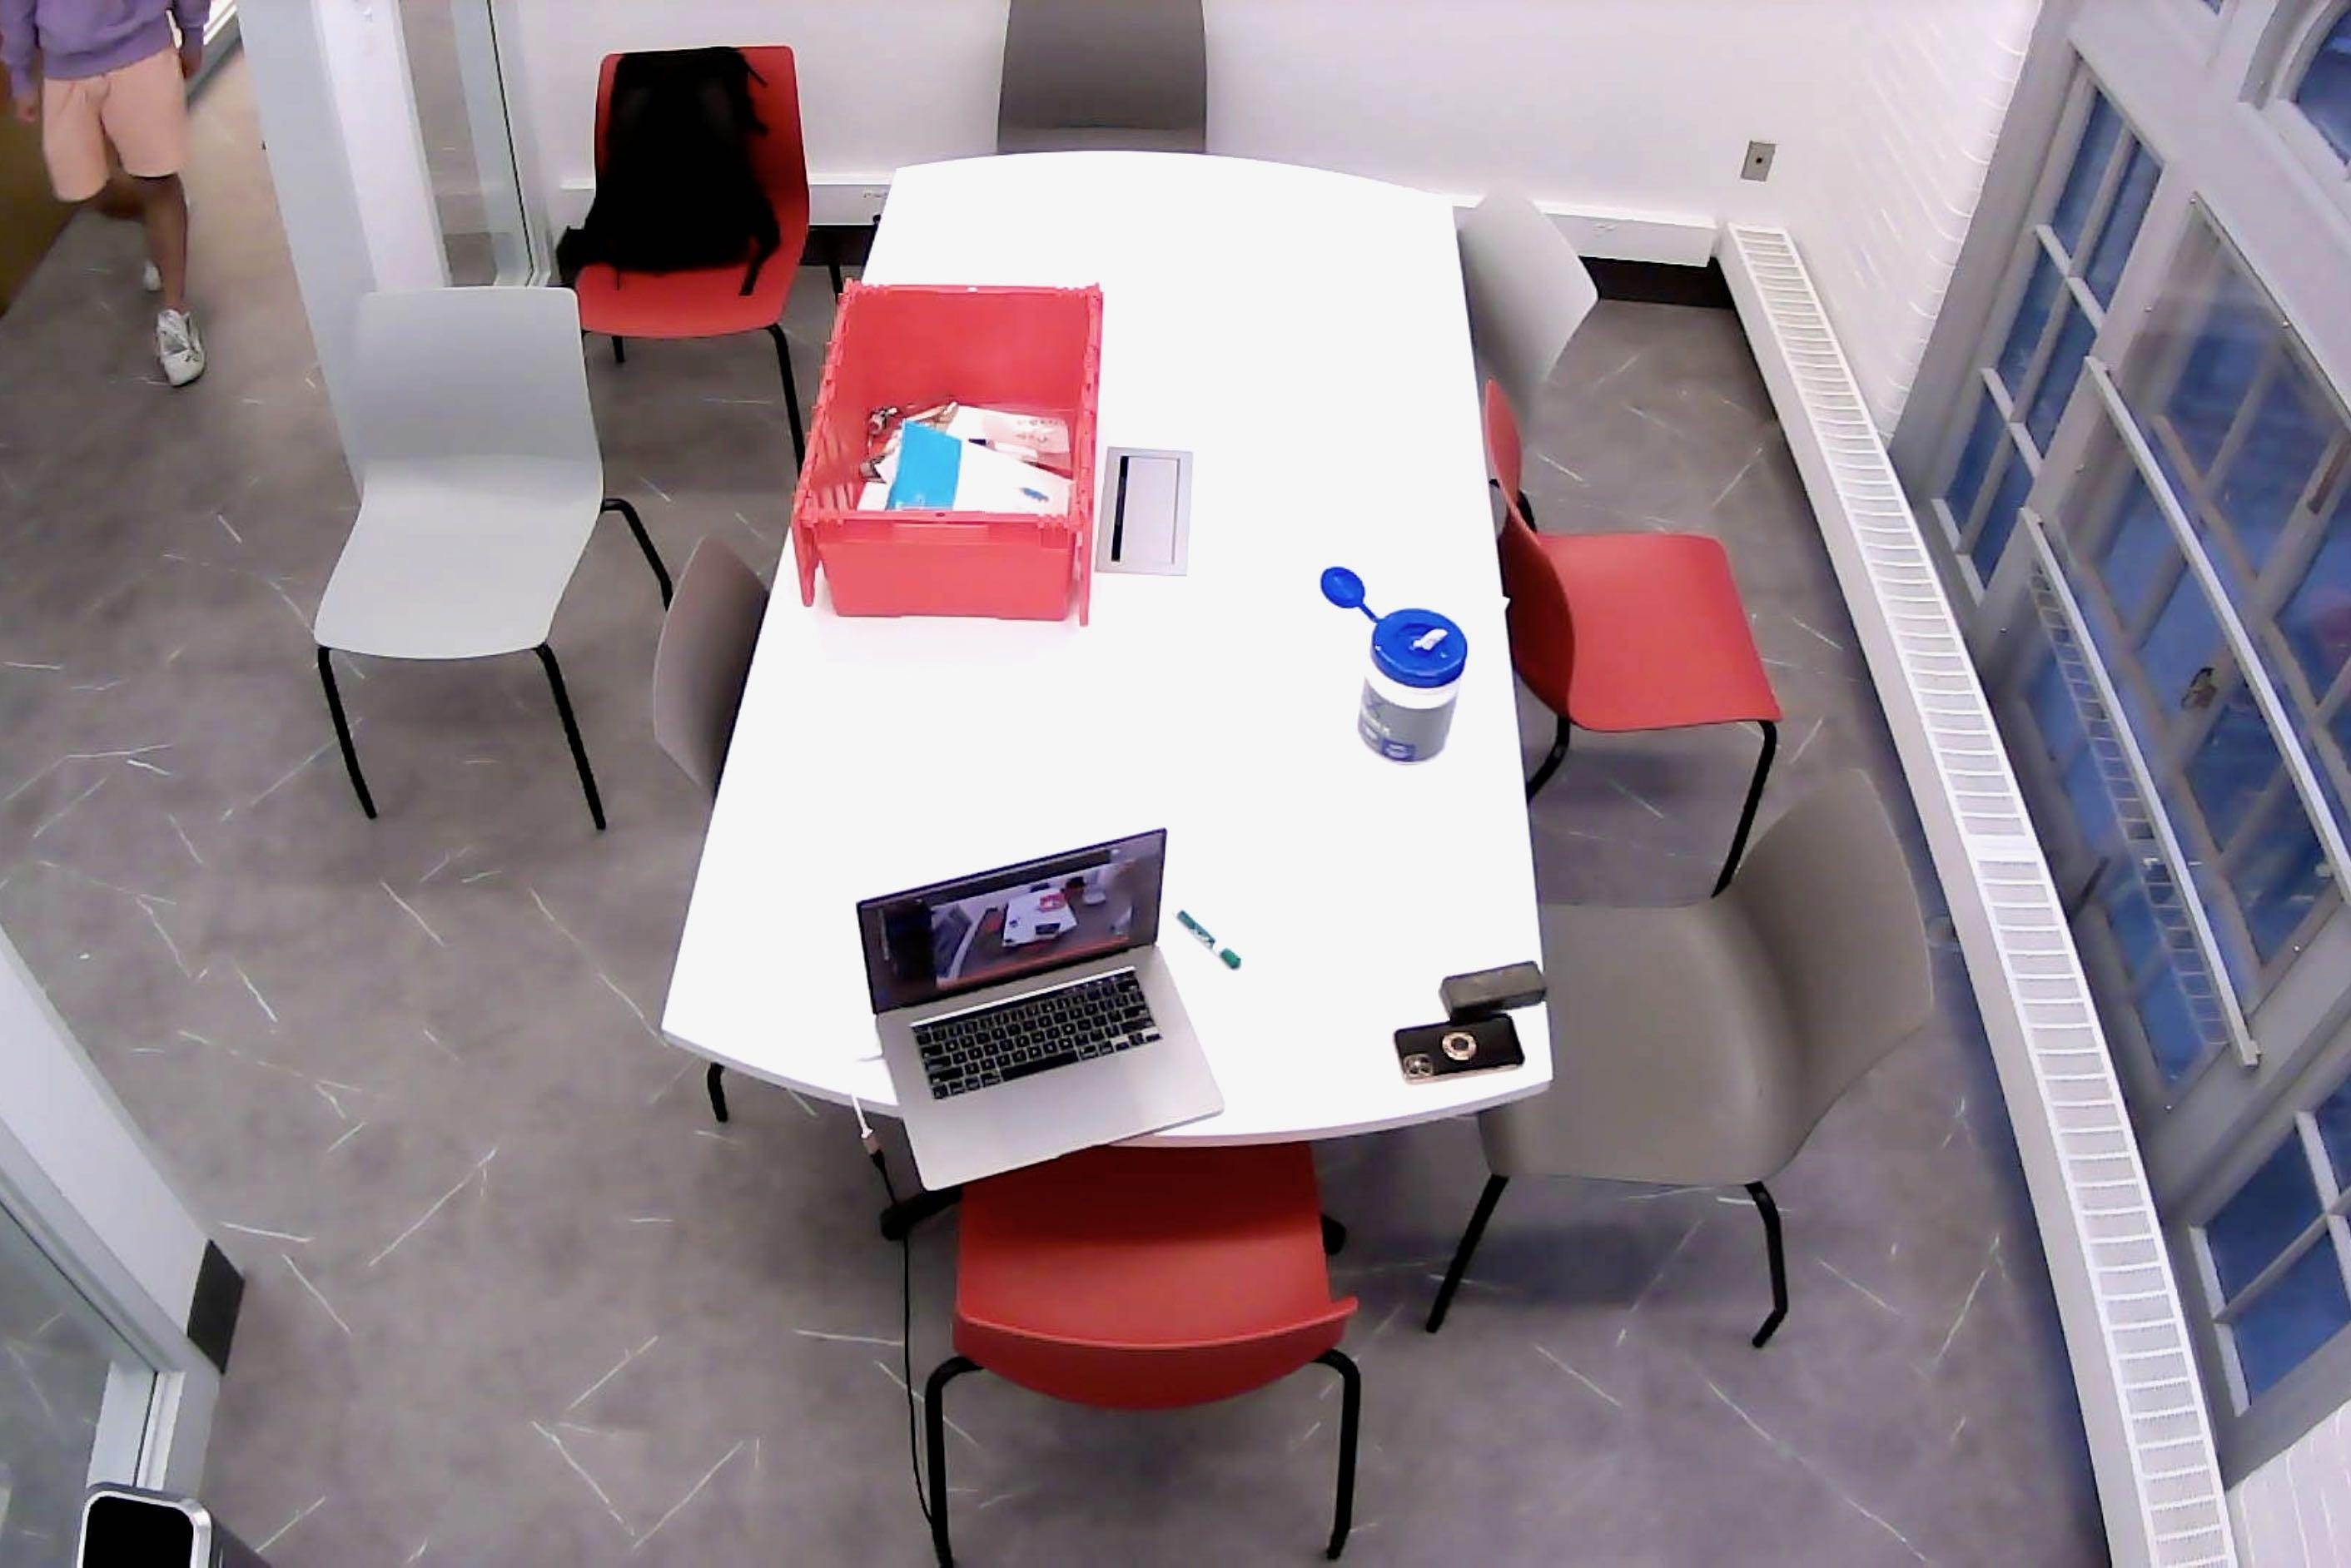Backpack: (550, 48, 792, 298)
Chair: (1418, 774, 1940, 1350), (311, 283, 675, 832), (925, 1140, 1368, 1568), (1483, 375, 1784, 903), (564, 46, 847, 483), (648, 537, 764, 1134), (1462, 179, 1603, 534), (1000, 0, 1210, 160)
Dining Table: (663, 151, 1555, 1257)
Person: (2, 0, 226, 398)
